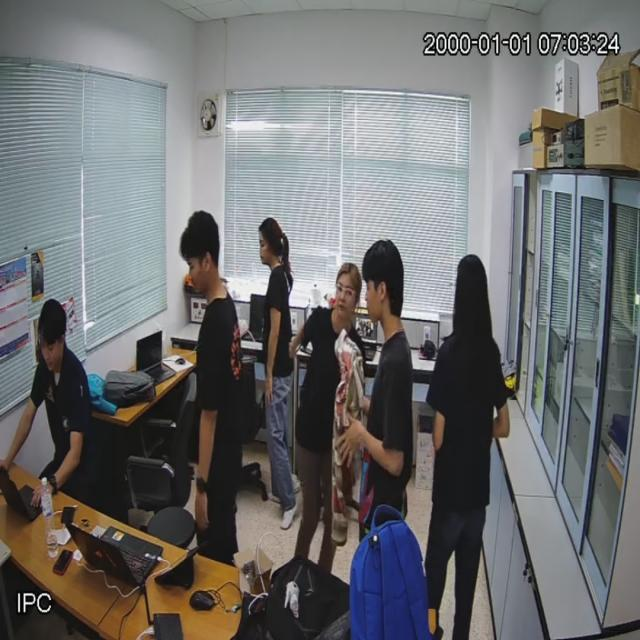normal: (426, 250, 506, 636), (174, 203, 247, 574), (358, 237, 415, 535), (256, 213, 303, 537), (29, 293, 97, 489)
